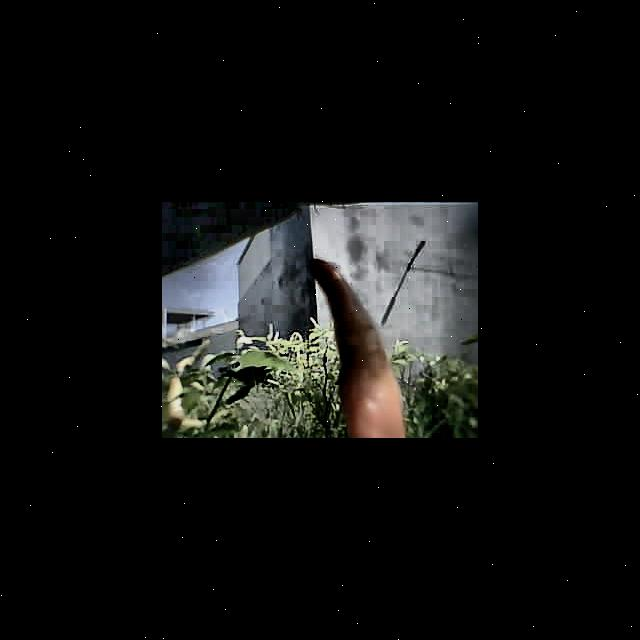Cabai: (315, 259, 402, 438)
